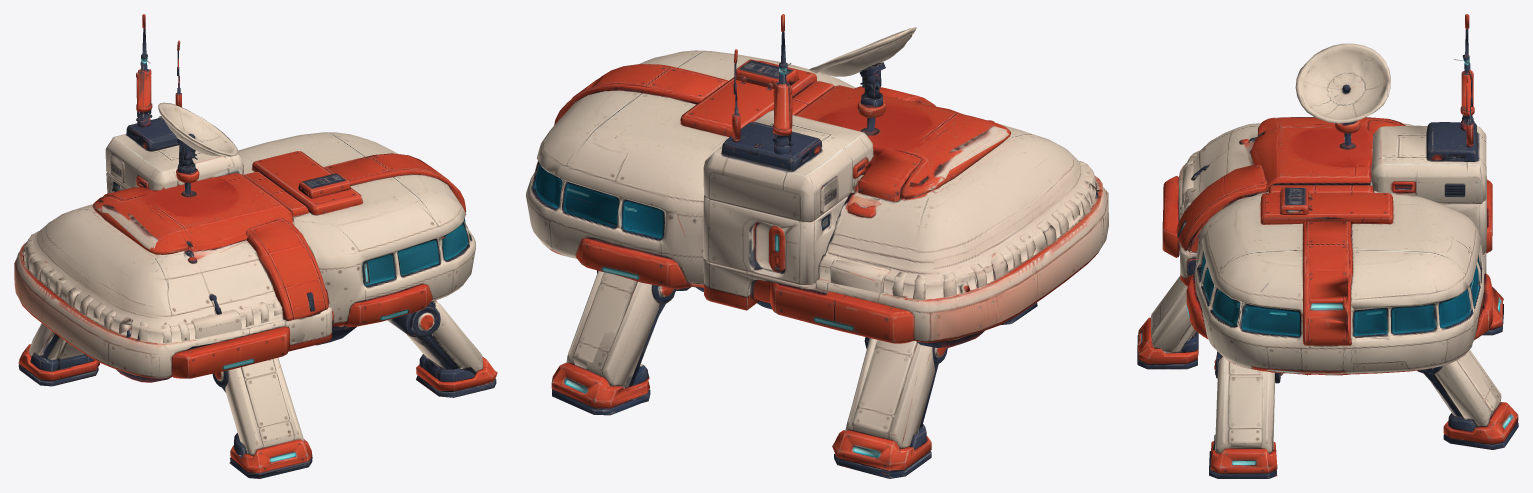
The model's file is station.glb.
3 views of the same model, side by side, from view 1: azimuth 30°, elevation 25°; view 2: azimuth 150°, elevation 25°; view 3: azimuth 270°, elevation 25° (orthographic). The views are drawn at different scales.
Size of the model in its own units: 0.9561 by 0.7749 by 0.7681.
Materials: 1 (1 with a texture image).
